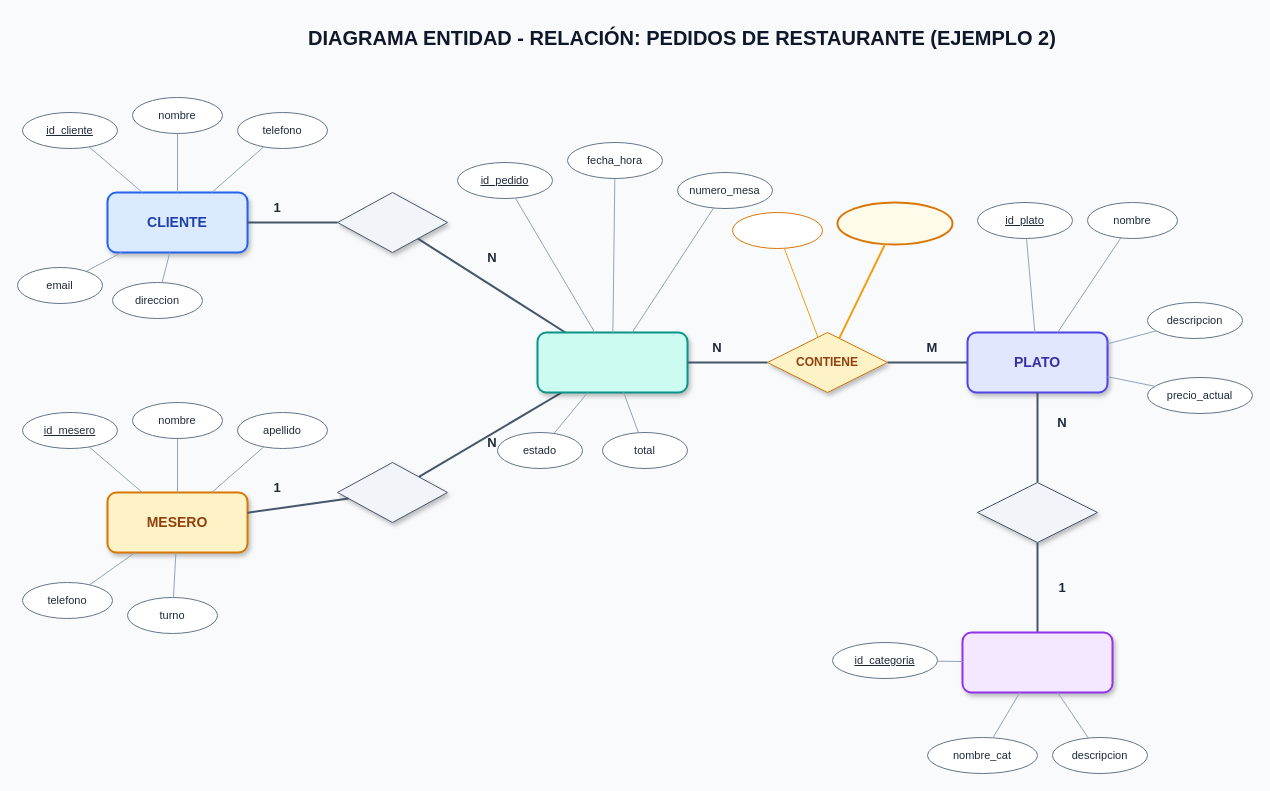
This 1270x791 diagram has some shape labels left out. The shapes that lost their labels are listed below. From the top down, each one's centre as x and y in pixels, then its label:
At point (393, 224): "REALIZA".
At point (777, 230): "cantidad".
At point (894, 223): "precio_unitario".
At point (613, 363): "PEDIDO".
At point (393, 494): "ATIENDE".
At point (1038, 514): "PERTENECE".
At point (1038, 663): "CATEGORIA".
